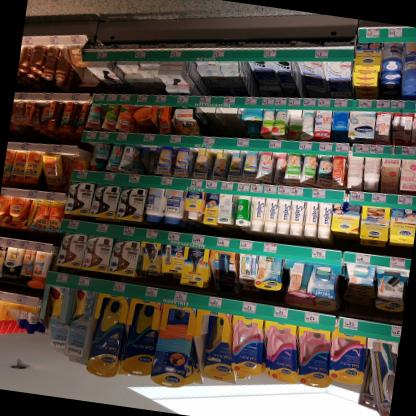empty_space: (197, 94, 245, 138)
